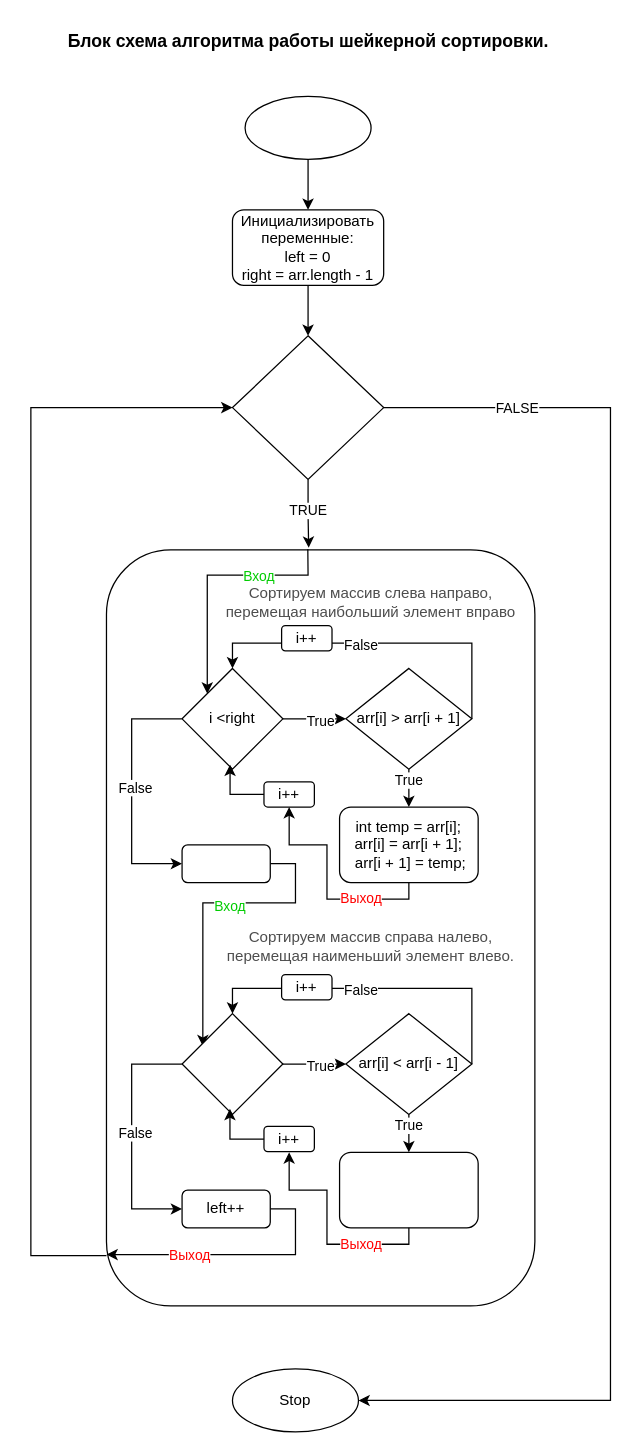
The diagram is 643 pixels wide and 1454 high, and some of its shapes have lost their labels. The shapes that lost their labels are listed below. From the top down, each one's centre as x and y in pixels, then its label:
(307,127): Statr
(307,407): While (left < right)
(225,863): right --
(232,1063): i > left
(408,1189): int temp = arr[i]; arr[i] = arr[i - 1]; arr[i - 1] = temp;
